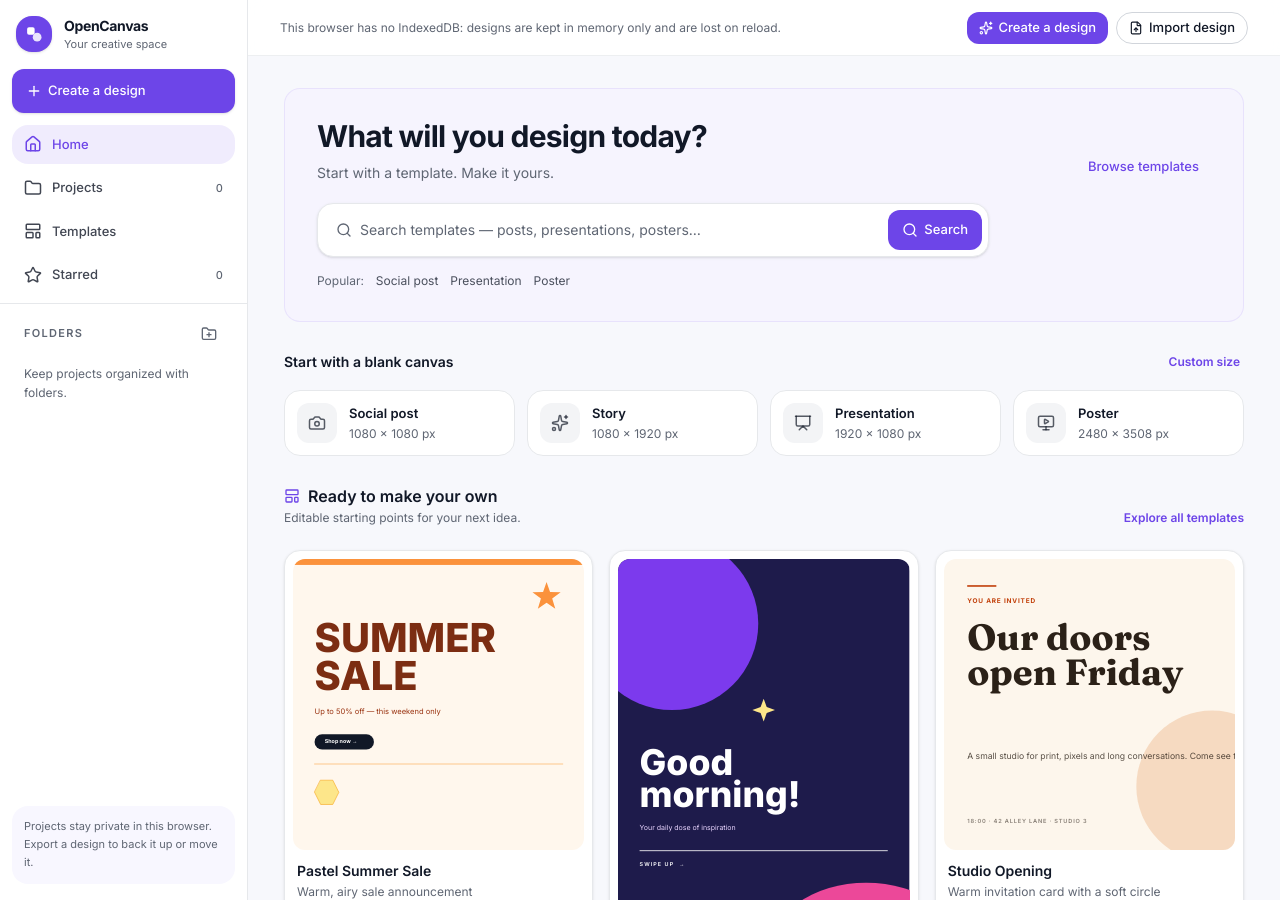
Test: Dashboard › searches templates from home and carries the query into the gallery
Expected: the heading "Ready to make your own" is shown, [284,484,521,508]
Type "tote" into the search field labelled "Search templates" at {"x": 602, "y": 230}, box [324,210,880,250]
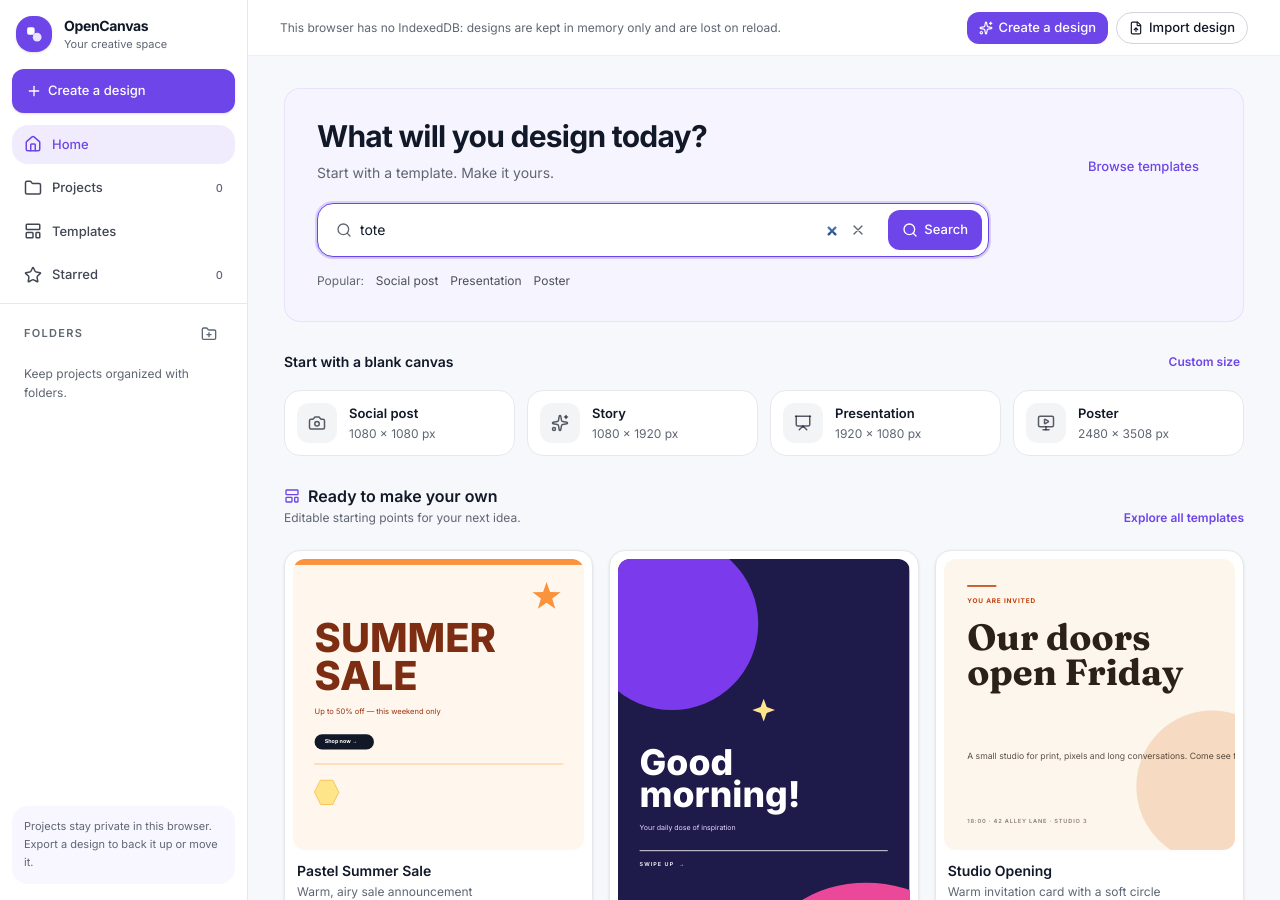
Click the button with aria-label "Search templates" at {"x": 935, "y": 230}, box [888,210,982,250]
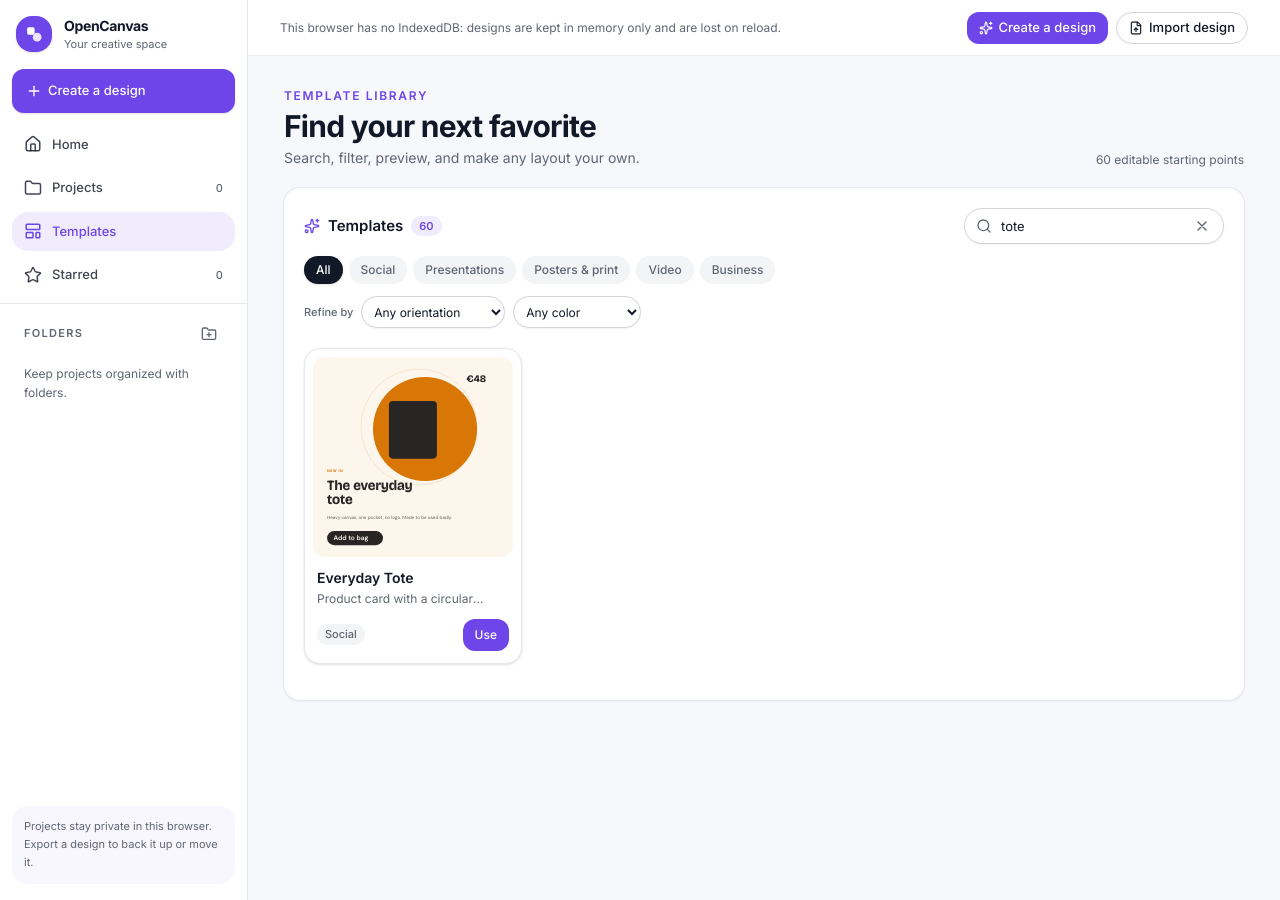
Result: the search field named "Search templates" holds "tote" at [964,208,1224,244]
Result: the heading "Find your next favorite" is shown at [284,108,640,144]
Result: the number of elements with test id "template-card" is 1 at [304,348,522,664]
